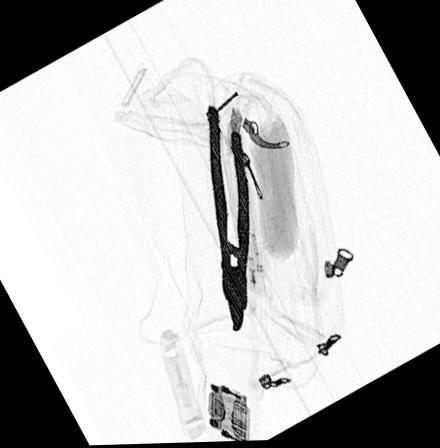Pliers: (208, 106, 250, 334)
